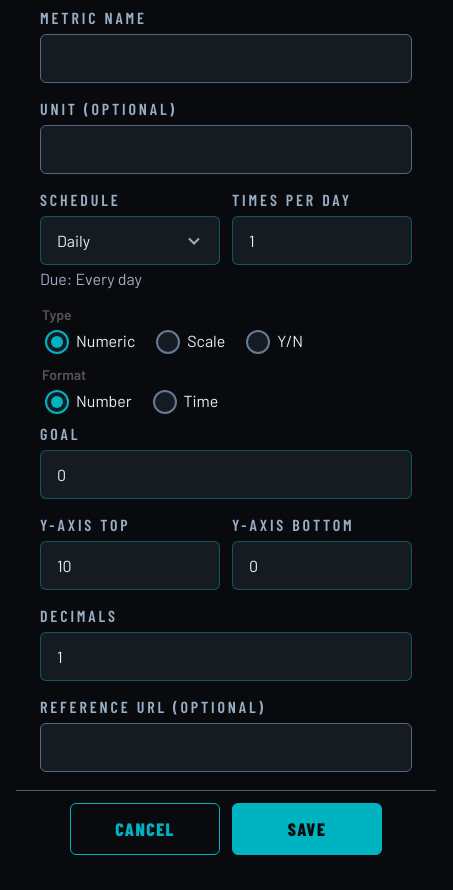
Test case: CustomMetricForm — submit shape per top-level type › rejects Scale submit when any level is missing a value
The image size is (453, 890).
Step 1. Type "Bad" into the field labelled "Metric Name" → (226, 58), box [40, 34, 412, 83]
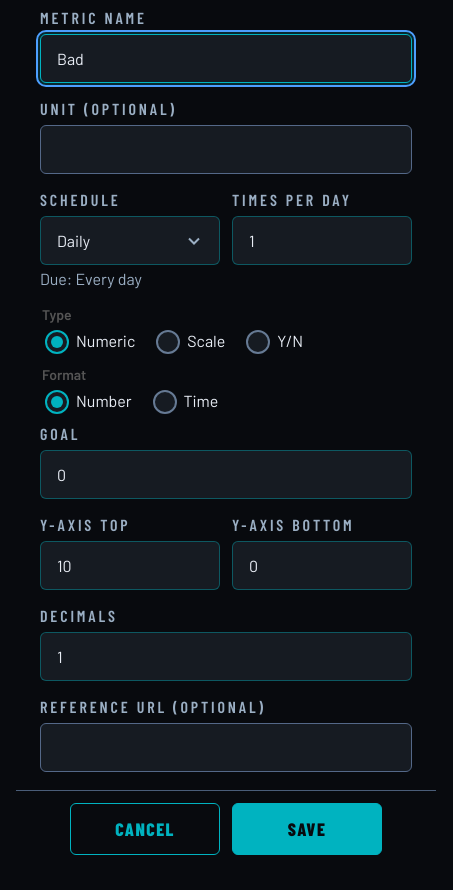
Step 2. Click the radio button labelled "Scale" → (168, 342), box [156, 330, 180, 354]
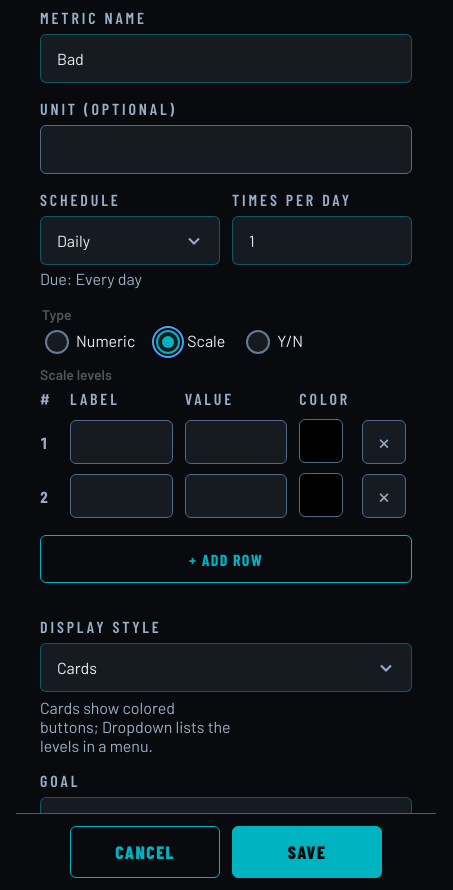
Step 3. Type "Solo" into the 1st field named "label" → (121, 442), box [70, 420, 173, 464]
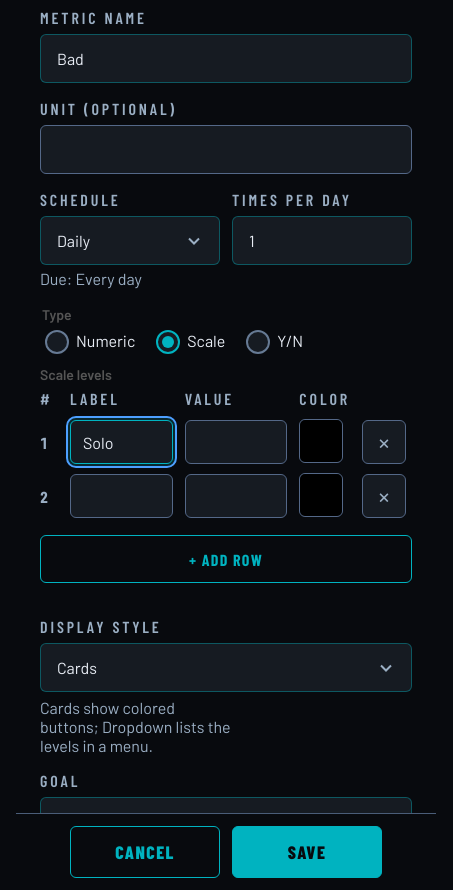
Step 4. Type "1" into the 1st number field named "value" → (236, 442), box [185, 420, 287, 464]
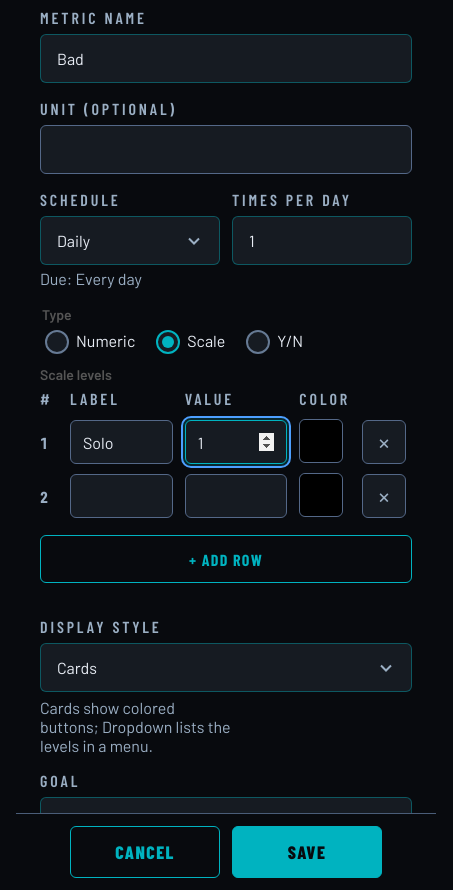
Step 5. Type "Duo" into the 2nd field named "label" → (121, 496), box [70, 474, 173, 518]
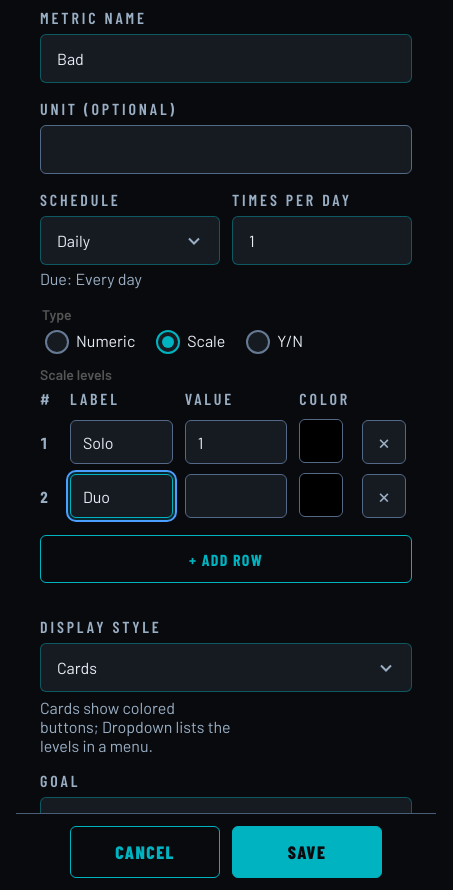
Step 6. Click the button "Save" → (307, 852), box [232, 826, 382, 878]
(page scrolled)
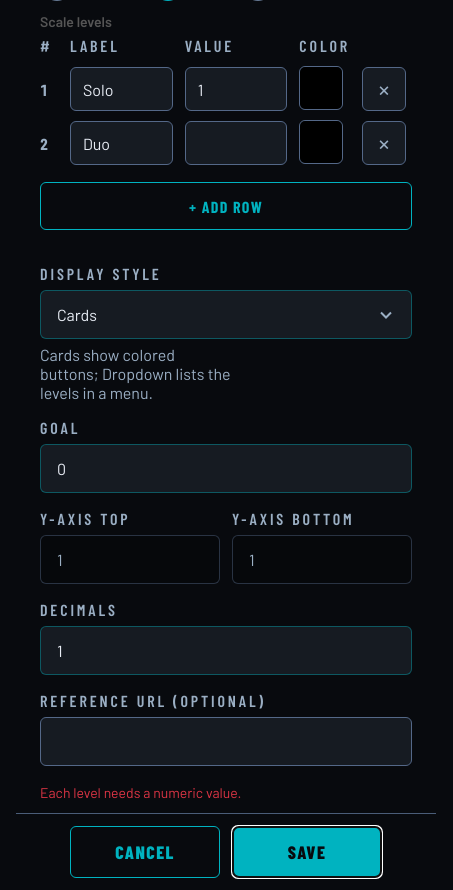
Expected: the text "Each level needs a numeric value." is shown, [40, 784, 241, 801]
